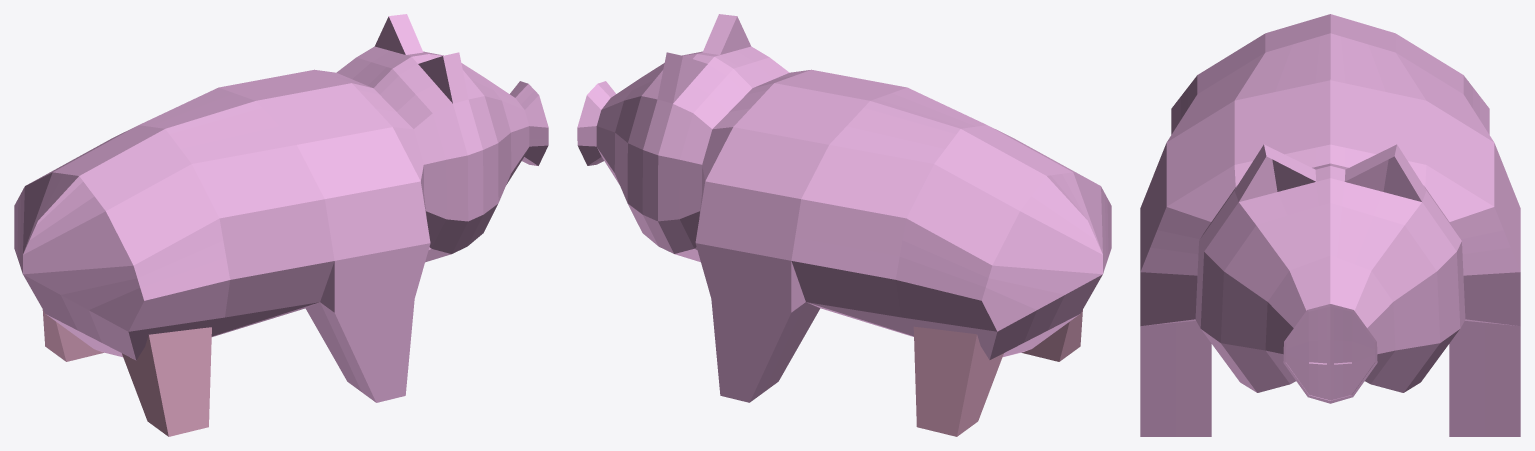
3 views of the same model, side by side, from view 1: azimuth 30°, elevation 25°; view 2: azimuth 150°, elevation 25°; view 3: azimuth 270°, elevation 25° (orthographic). The views are drawn at different scales.
Visible parts, largest first — view 1: Plane_2, Cube_3; view 2: Plane_2, Cube_3; view 3: Plane_2.
Boxes of the visible parts, x1=… form: Plane_2: x1=14, y1=14, x2=548, y2=402; Cube_3: x1=42, y1=309, x2=211, y2=436; Plane_2: x1=577, y1=14, x2=1111, y2=402; Cube_3: x1=913, y1=310, x2=1082, y2=436; Plane_2: x1=1140, y1=14, x2=1520, y2=436.
Size of the model in its own units: 10.56 by 5.61 by 5.6.
